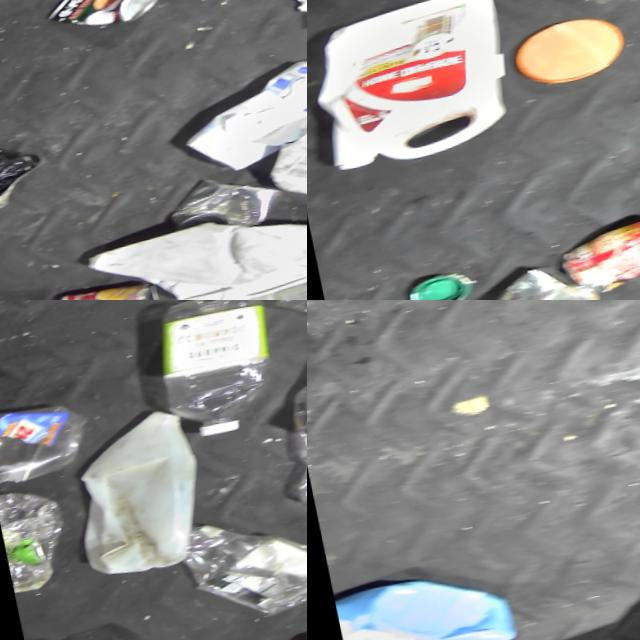can: (157, 165, 288, 251), (550, 214, 640, 300), (38, 0, 169, 43), (477, 256, 600, 300), (52, 274, 163, 300)
milk_jug: (59, 400, 212, 584)
non_white_jug: (307, 0, 521, 179), (326, 550, 525, 640)
plastic_bottle: (140, 300, 284, 452), (0, 474, 76, 601), (272, 371, 307, 533)
